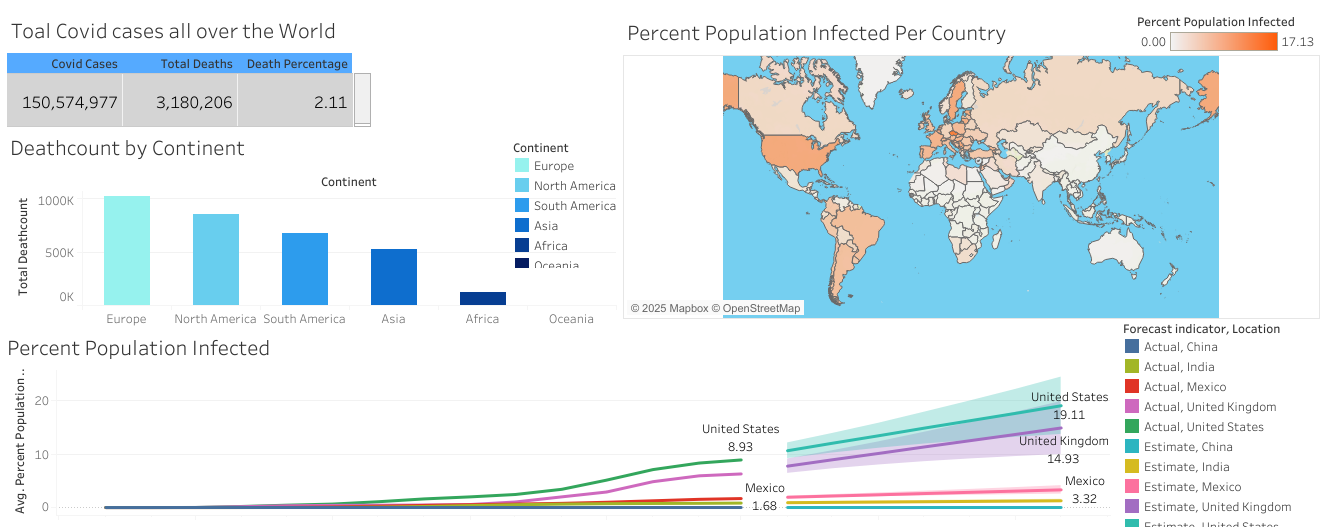

The page's visual inventory and layout, read from the dashboard file:
{"tool":"tableau","page":{"name":"Dashboard 1","canvas":[1000,1000],"units":"permille","ordinal":0},"visuals":[{"type":"legend","title":"Sheet 3","param":"[federated.0boucc11wmxk3k1a88i7p0z8wekr].[sum:PercentPopulationInfected:qk]","box":[849.7,14.7,136,88.2]},{"type":"worksheet","title":"Sheet 1","mark":"Automatic","box":[5,18.4,452.6,222.4]},{"type":"worksheet","title":"Sheet 3","mark":"Automatic","box":[466,22.1,520.6,580.9]},{"type":"worksheet","title":"Sheet 2","mark":"Automatic","rows":["total_deathcount"],"cols":["location"],"box":[4.2,240.8,455.9,373.2]},{"type":"legend","title":"Sheet 2","param":"[federated.1wjhof71mpitcs1cllpvm11mw745].[none:location:nk]","box":[382.9,257.4,80.6,250]},{"type":"legend","title":"Sheet 4","param":"[federated.01q1ywv1bl5k5717e4qxg0ajxako].[none:Forecast Indicator:nk]\n[federated","box":[838.8,599.3,146.9,397.1]},{"type":"worksheet","title":"Sheet 4","mark":"Automatic","rows":["PercentPopulationInfected"],"cols":["date"],"box":[2.5,617.6,827,375]}]}

Visuals, with their boxes on the dashboard's canvas, which has no fixed pixel size, in thousandths of its width and height (x1, y1, x2, y2). These are canvas units, not pixel positions in the 1337x528 screenshot, which may show the page scaled, cropped or inside an application window:
"Sheet 3" legend: pyautogui.locateOnScreen(850, 15, 986, 103)
"Sheet 1" worksheet: pyautogui.locateOnScreen(5, 18, 458, 241)
"Sheet 3" worksheet: pyautogui.locateOnScreen(466, 22, 987, 603)
"Sheet 2" worksheet: pyautogui.locateOnScreen(4, 241, 460, 614)
"Sheet 2" legend: pyautogui.locateOnScreen(383, 257, 464, 507)
"Sheet 4" legend: pyautogui.locateOnScreen(839, 599, 986, 996)
"Sheet 4" worksheet: pyautogui.locateOnScreen(2, 618, 830, 993)
